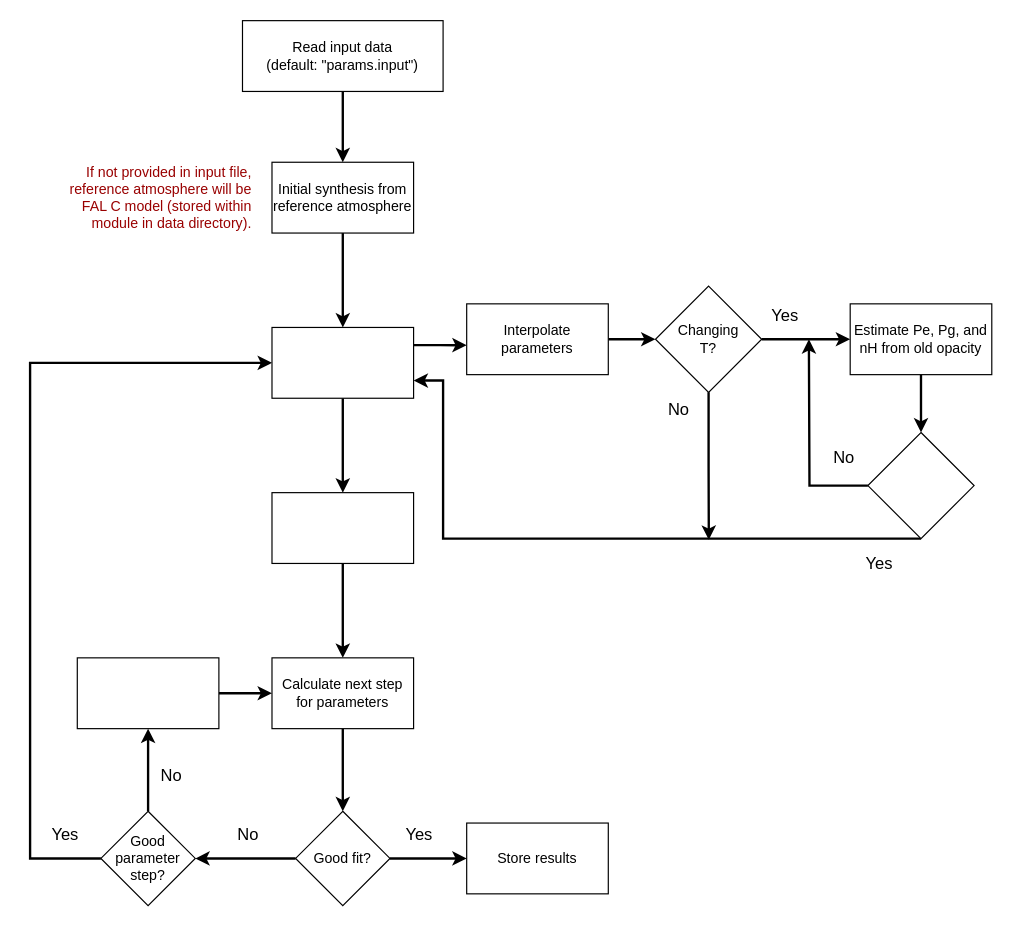
This 1012x926 diagram has some shape labels left out. Each missing label, with the centre of its shape:
Build atmosphere from nodes: (x=342, y=362)
Calculate RFs: (x=342, y=527)
Change Marquardt parameter: (x=147, y=693)
Good pressure?: (x=920, y=485)
